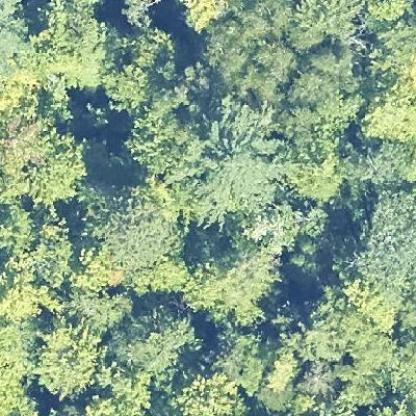tree-top: (168, 100, 283, 219), (345, 184, 415, 311), (0, 118, 85, 208), (101, 190, 185, 274), (194, 228, 278, 310), (29, 6, 106, 88), (118, 298, 198, 374), (35, 317, 110, 397), (168, 363, 250, 415), (351, 81, 415, 144), (29, 210, 78, 289), (289, 137, 347, 201), (368, 14, 415, 86), (121, 23, 176, 74), (296, 361, 339, 400)
